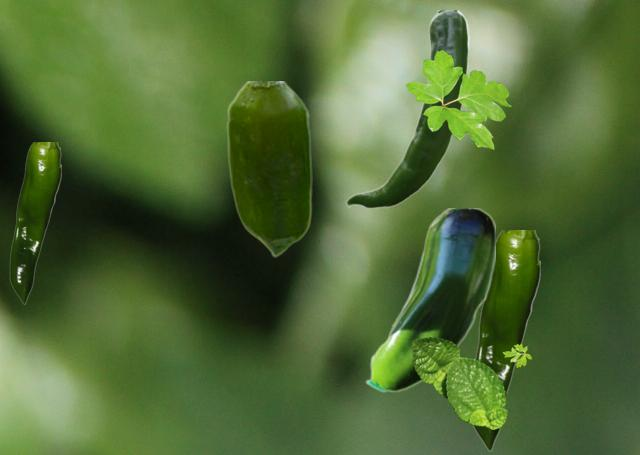green_chili: (345, 10, 469, 208), (364, 208, 494, 392), (226, 81, 311, 256), (472, 230, 539, 450), (9, 142, 60, 303)
